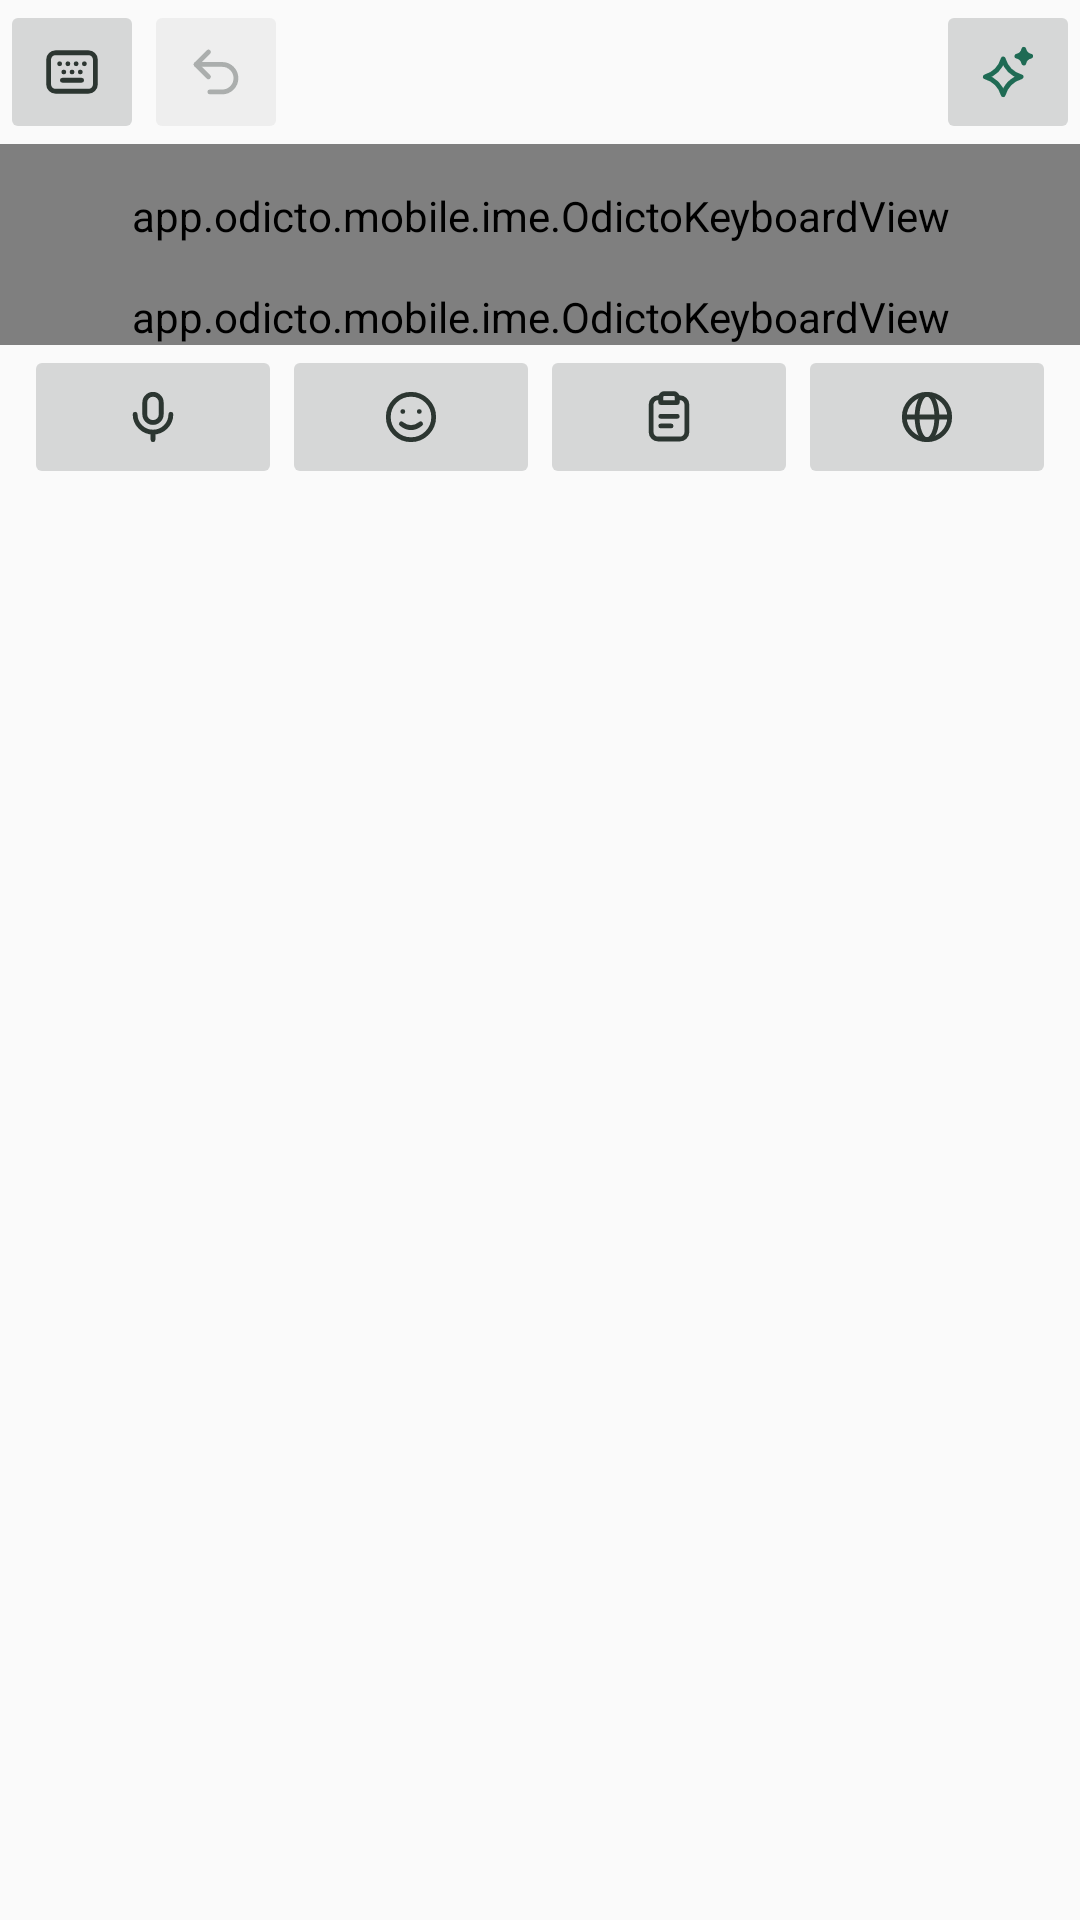

Icons on this 1080×1920 Android screen, each with its box as [x1, y1, x2, y2]:
Clipboard: [552, 363, 786, 471]
Emoji: [294, 363, 528, 471]
Hold to speak. Double tap for voice options: [36, 363, 270, 471]
Polish all text in this field: [948, 18, 1068, 126]
Show keyboard: [12, 18, 132, 126]
Switch to the next keyboard: [810, 363, 1044, 471]
Undo last polish: [156, 18, 276, 126]
